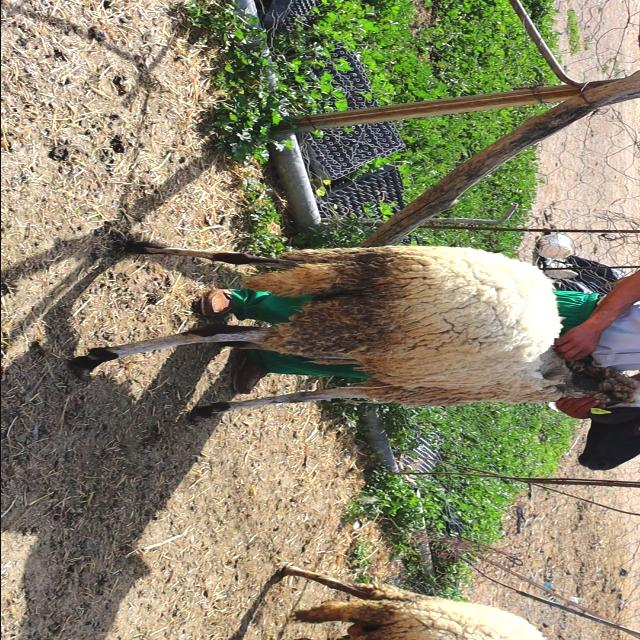Score_3: (71, 242, 640, 470)
